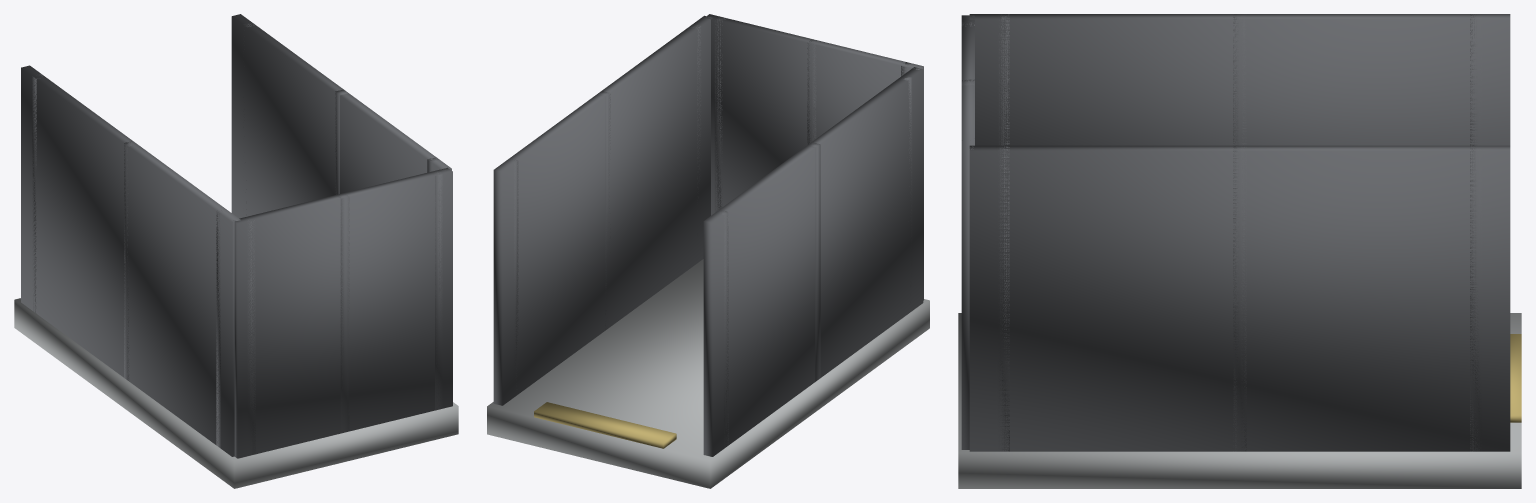
The model's file is floor_w100_d170_three.glb.
3 views of the same model, side by side, from view 1: azimuth 30°, elevation 25°; view 2: azimuth 150°, elevation 25°; view 3: azimuth 270°, elevation 25° (orthographic). The views are drawn at different scales.
Visible parts, largest first — view 1: world; view 2: world; view 3: world.
Part boxes in pixels (x1=…): world: x1=14, y1=14, x2=458, y2=488; world: x1=487, y1=14, x2=929, y2=488; world: x1=958, y1=14, x2=1521, y2=488.
Size of the model in its own units: 1 by 1.12 by 1.7.
